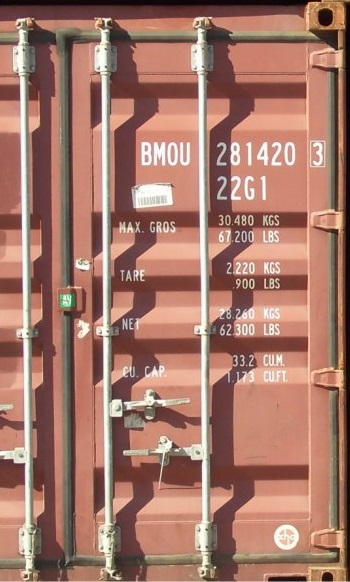container_door: (9, 9, 346, 580)
